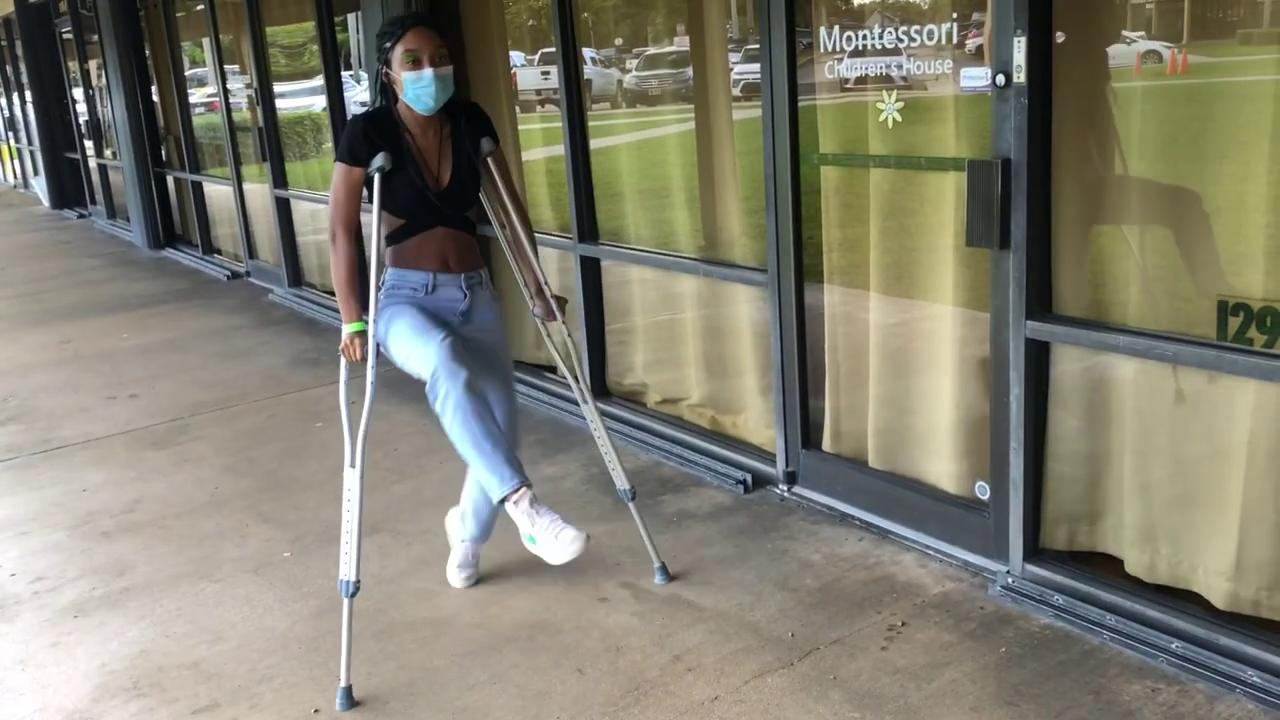crutches: (327, 14, 676, 713)
